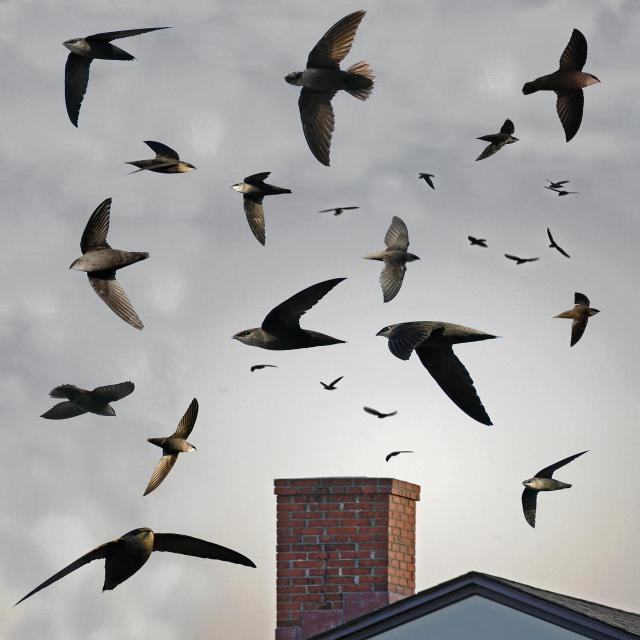bird: (14, 524, 255, 625), (281, 9, 378, 173), (375, 326, 502, 430), (70, 201, 156, 339), (61, 28, 167, 133), (523, 28, 605, 146), (228, 278, 352, 354), (515, 449, 589, 536), (142, 398, 200, 499), (366, 217, 426, 306), (230, 173, 294, 250), (40, 380, 136, 421), (126, 140, 201, 177), (553, 295, 603, 345), (474, 119, 520, 160), (546, 225, 572, 261), (384, 448, 417, 468), (362, 404, 398, 422), (542, 179, 576, 198), (320, 203, 360, 219), (504, 253, 541, 267), (241, 362, 276, 375), (320, 375, 345, 393), (543, 176, 574, 190), (468, 235, 490, 250), (418, 173, 435, 190)
